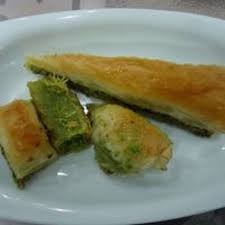baklava: (88, 104, 171, 174), (0, 99, 57, 187), (28, 75, 90, 153)
